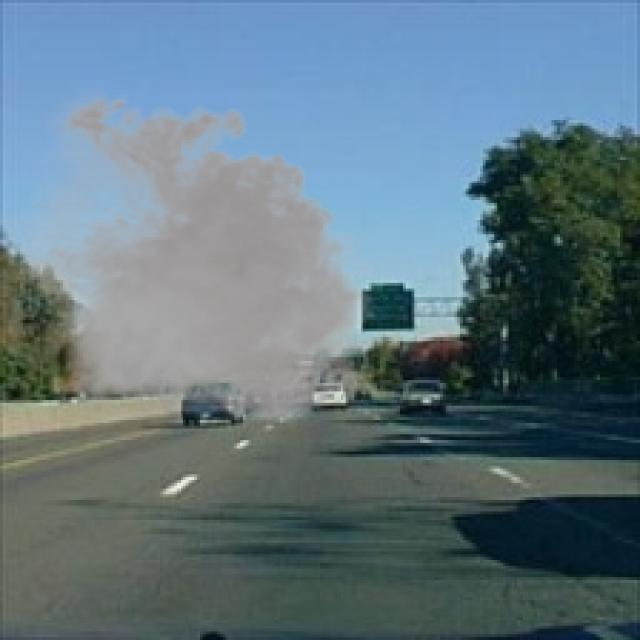Smoke: (3, 86, 386, 434)
